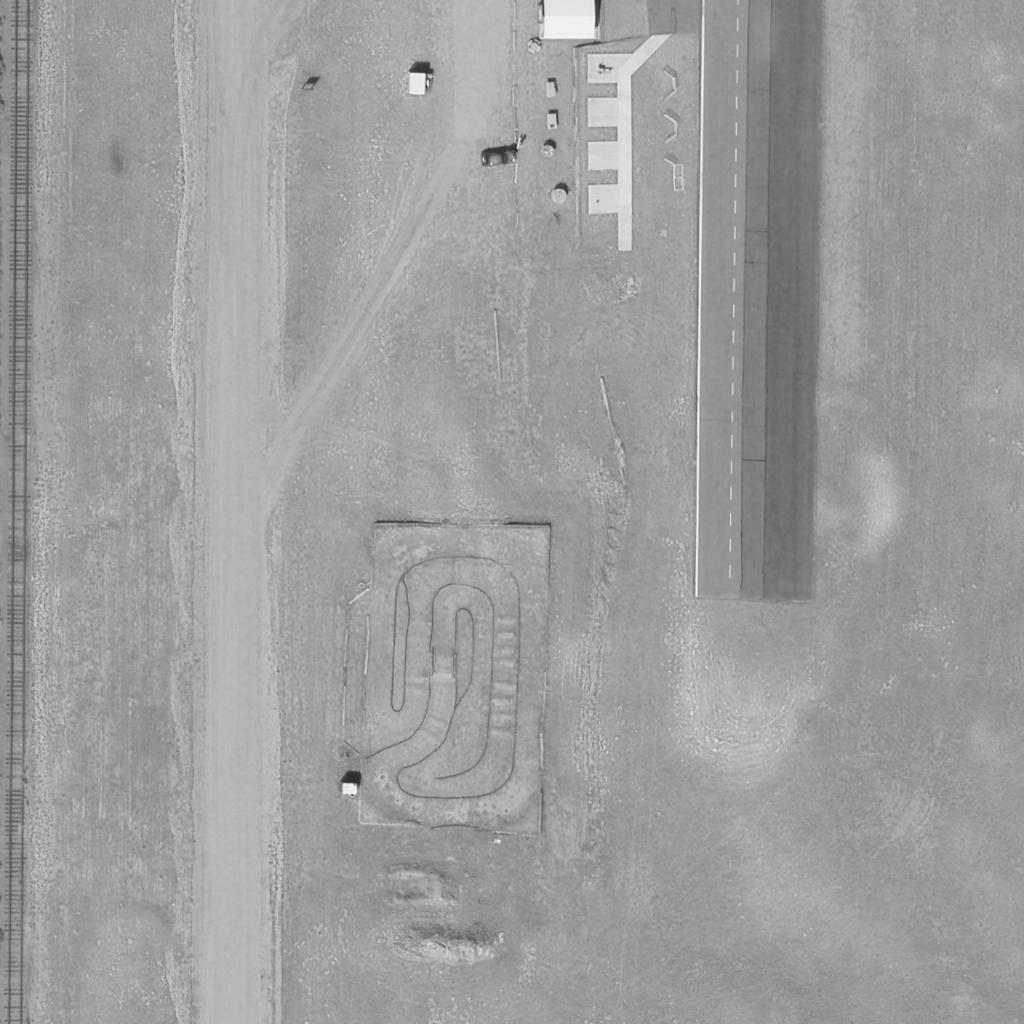vehicle: (477, 149, 519, 169)
